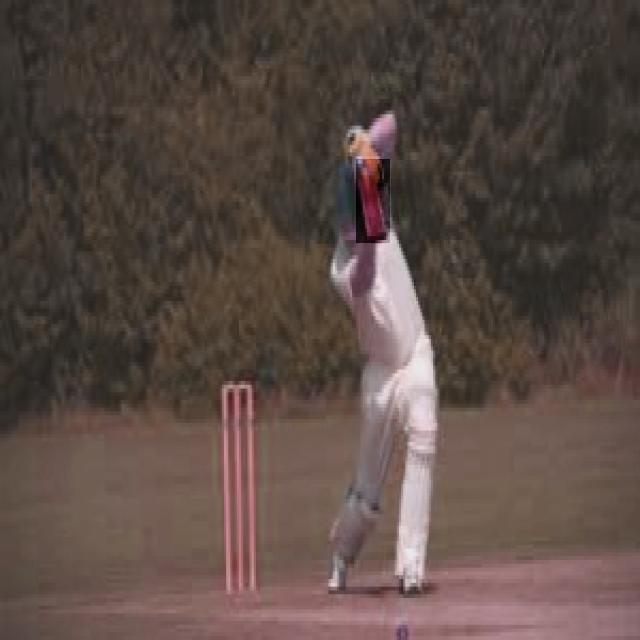bat: (358, 158, 390, 242)
toe: (364, 229, 392, 244)
